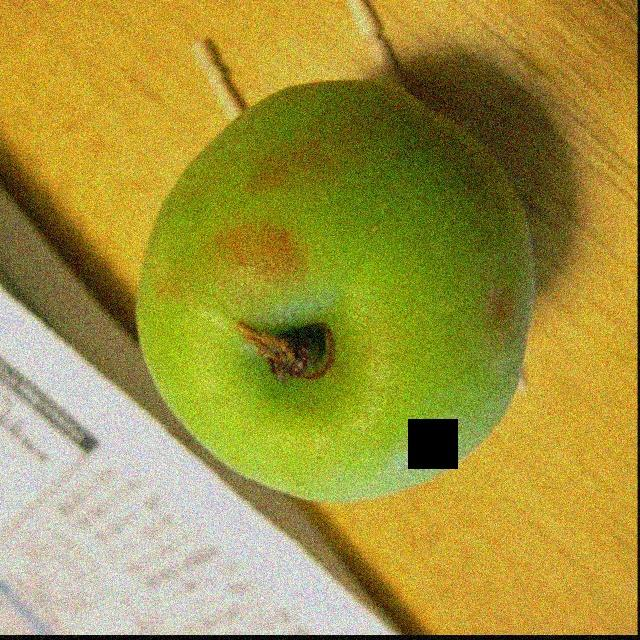green apple: (126, 74, 547, 506)
